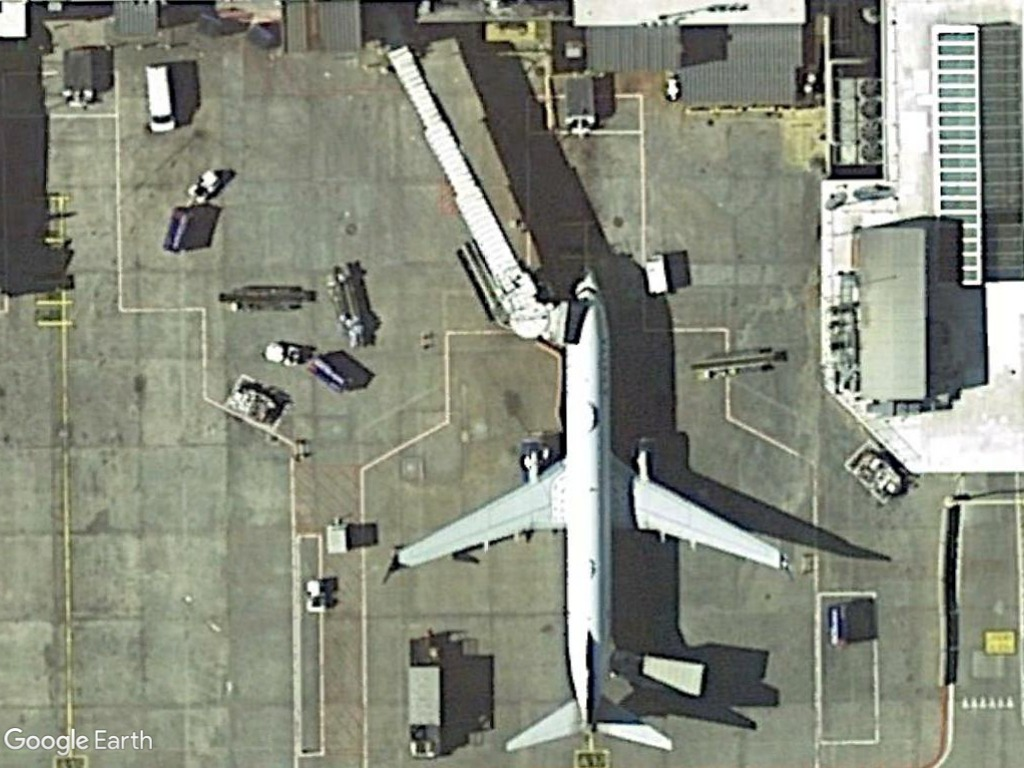airliner: (386, 262, 790, 763)
van: (137, 57, 182, 137)
